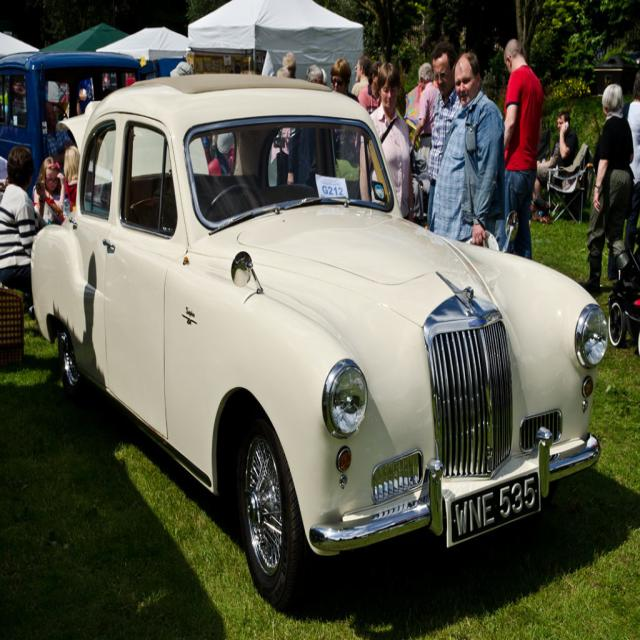car: (30, 71, 608, 615)
